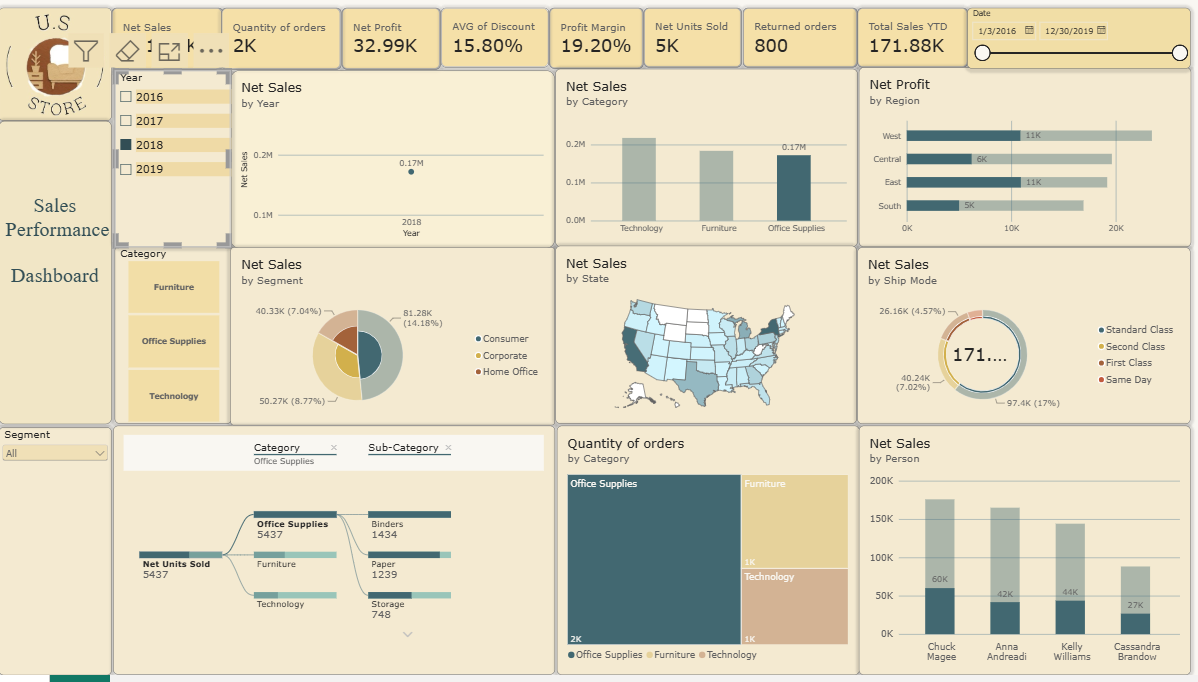

What the dashboard file says about the page in this screenshot:
{"tool":"powerbi","page":{"name":"Page 1","canvas":[1920,1080],"ordinal":0},"visuals":[{"type":"cardVisual","fields":{"Data":["Orders.Net_Sales"]},"box":[205,30,175.7,97.1],"z":0},{"type":"cardVisual","fields":{"Data":["Table Measures.Net Profit"]},"box":[566.1,31.2,155.7,97.1],"z":1000},{"type":"cardVisual","fields":{"Data":["Calendar.Profit Margin"]},"box":[892,32,148,96],"z":2000},{"type":"cardVisual","fields":{"Data":["Calendar.Quantity of orders"]},"box":[376,30,188.6,97.1],"z":3000},{"type":"cardVisual","fields":{"Data":["Calendar.Net Units Sold"]},"box":[1042,32,154,94],"z":4000},{"type":"cardVisual","fields":{"Data":["Calendar.Returned orders count"]},"box":[1196,32,180,94],"z":5000},{"type":"cardVisual","fields":{"Data":["Table Measures.Running Total"]},"box":[1376,32,174,94],"z":6000},{"type":"slicer","fields":{"Values":["Calendar.Date.Variation.Date Hierarchy.Year"]},"box":[208,130,184,278],"z":7000},{"type":"slicer","fields":{"Values":["Orders.Segment"]},"box":[27.5,690,177.5,390],"z":8000},{"type":"slicer","fields":{"Values":["Orders.Category"]},"box":[208,406,184,280],"z":9000},{"type":"lineChart","fields":{"Category":["Calendar.Date.Variation.Date Hierarchy.Year"],"Y":["Table Measures.Net Sales"]},"box":[391.4,128.6,510,280],"z":10000},{"type":"clusteredColumnChart","fields":{"Y":["Table Measures.Net Sales"],"Category":["Orders.Category"]},"box":[902,126,475.7,280],"z":11000},{"type":"pieChart","fields":{"Category":["Orders.Segment"],"Y":["Table Measures.Net Sales"]},"box":[392,408,510,280],"z":12000},{"type":"shapeMap","fields":{"Value":["Table Measures.Net Sales"],"Category":["Orders.State"]},"box":[902,406,474.3,280],"z":13000},{"type":"image","box":[27.5,30,177.5,177.5],"z":14000},{"type":"clusteredBarChart","fields":{"Category":["Orders.Region"],"Y":["Table Measures.Net Profit"]},"box":[1380,125,522.5,282.5],"z":15000},{"type":"donutChart","fields":{"Category":["Orders.Ship Mode"],"Y":["Table Measures.Net Sales"]},"box":[1378,408,524,278],"z":16000},{"type":"cardVisual","fields":{"Data":["Table Measures.AVG of Discount"]},"box":[722,32,170,94],"z":17000},{"type":"decompositionTreeVisual","fields":{"ExplainBy":["Orders.Category","Orders.Sub-Category"],"Analyze":["Table Measures.Net Units Sold"]},"box":[206.7,688.3,695,391.7],"z":18000},{"type":"treemap","fields":{"Values":["Table Measures.Quantity of orders"],"Group":["Orders.Category"]},"box":[904,688,476,392],"z":19000},{"type":"clusteredColumnChart","fields":{"Y":["Table Measures.Net Sales"],"Category":["People.Person"]},"box":[1380,688,522,392],"z":20000},{"type":"slicer","fields":{"Values":["Calendar.Date"]},"box":[1550,30,351.4,95.7],"z":21000},{"type":"textbox","box":[27.5,207.5,177.5,477.5],"z":22000}]}

Visuals, with their boxes in screenshot pixels (x1, y1, x2, y2), scaled from the page's 1920x1080 canvas onto the 1198x682 screenshot:
cardVisual - Orders.Net_Sales: bbox=(128, 19, 238, 80)
cardVisual - Table Measures.Net Profit: bbox=(353, 20, 450, 81)
cardVisual - Calendar.Profit Margin: bbox=(557, 20, 649, 81)
cardVisual - Calendar.Quantity of orders: bbox=(235, 19, 352, 80)
cardVisual - Calendar.Net Units Sold: bbox=(650, 20, 746, 80)
cardVisual - Calendar.Returned orders count: bbox=(746, 20, 859, 80)
cardVisual - Table Measures.Running Total: bbox=(859, 20, 967, 80)
slicer - Calendar.Date.Variation.Date Hierarchy.Year: bbox=(130, 82, 245, 258)
slicer - Orders.Segment: bbox=(17, 436, 128, 681)
slicer - Orders.Category: bbox=(130, 256, 245, 433)
lineChart - Calendar.Date.Variation.Date Hierarchy.Year x Table Measures.Net Sales: bbox=(244, 81, 562, 258)
clusteredColumnChart - Table Measures.Net Sales x Orders.Category: bbox=(563, 80, 860, 256)
pieChart - Orders.Segment x Table Measures.Net Sales: bbox=(245, 258, 563, 434)
shapeMap - Table Measures.Net Sales x Orders.State: bbox=(563, 256, 859, 433)
image: bbox=(17, 19, 128, 131)
clusteredBarChart - Orders.Region x Table Measures.Net Profit: bbox=(861, 79, 1187, 257)
donutChart - Orders.Ship Mode x Table Measures.Net Sales: bbox=(860, 258, 1187, 433)
cardVisual - Table Measures.AVG of Discount: bbox=(450, 20, 557, 80)
decompositionTreeVisual - Orders.Category x Orders.Sub-Category: bbox=(129, 435, 563, 681)
treemap - Table Measures.Quantity of orders x Orders.Category: bbox=(564, 434, 861, 681)
clusteredColumnChart - Table Measures.Net Sales x People.Person: bbox=(861, 434, 1187, 681)
slicer - Calendar.Date: bbox=(967, 19, 1186, 79)
textbox: bbox=(17, 131, 128, 433)
